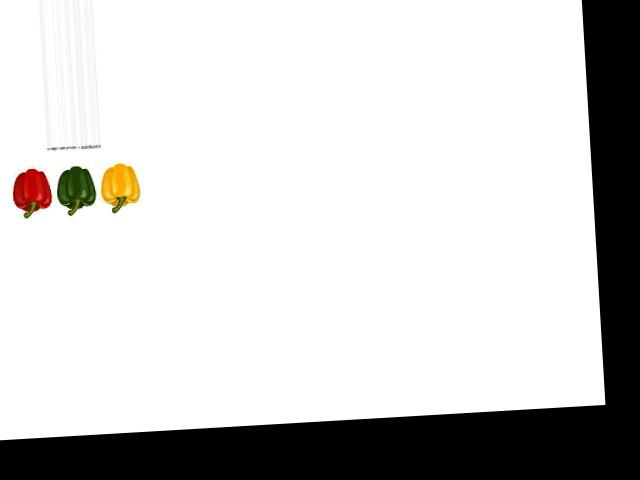bell_pepper: (96, 158, 143, 212)
